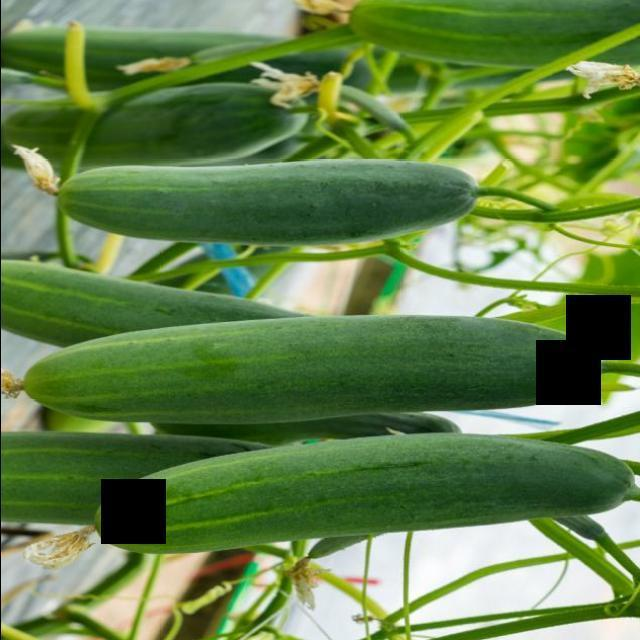cucumber: (88, 430, 636, 556), (19, 312, 602, 428), (49, 158, 491, 248), (0, 256, 301, 350), (0, 432, 273, 530), (0, 83, 316, 163), (0, 28, 372, 94), (338, 0, 640, 72), (140, 416, 464, 444)
